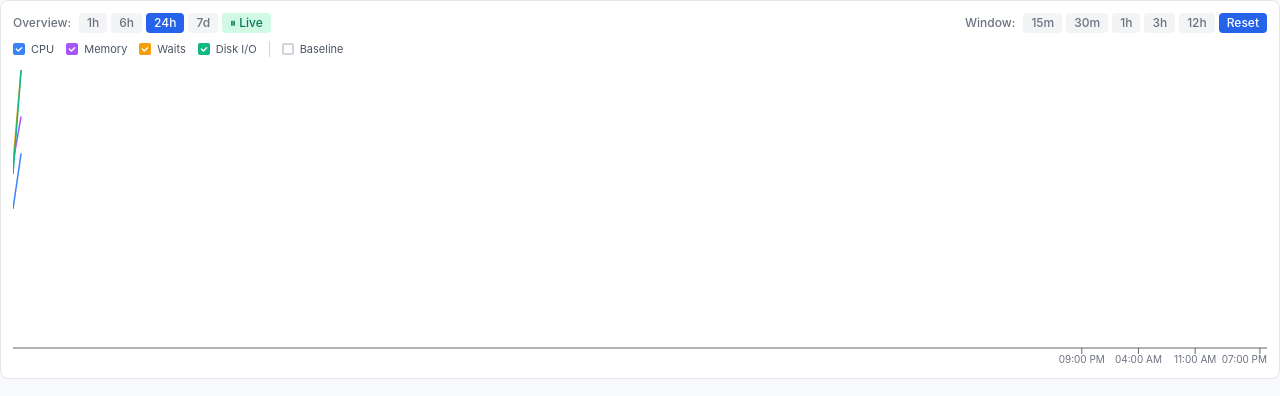
Test: OverviewTimeline › auto-refresh toggle button is present and toggles state
Click the button with test id "auto-refresh-toggle": click(246, 23) [222,13,271,33]
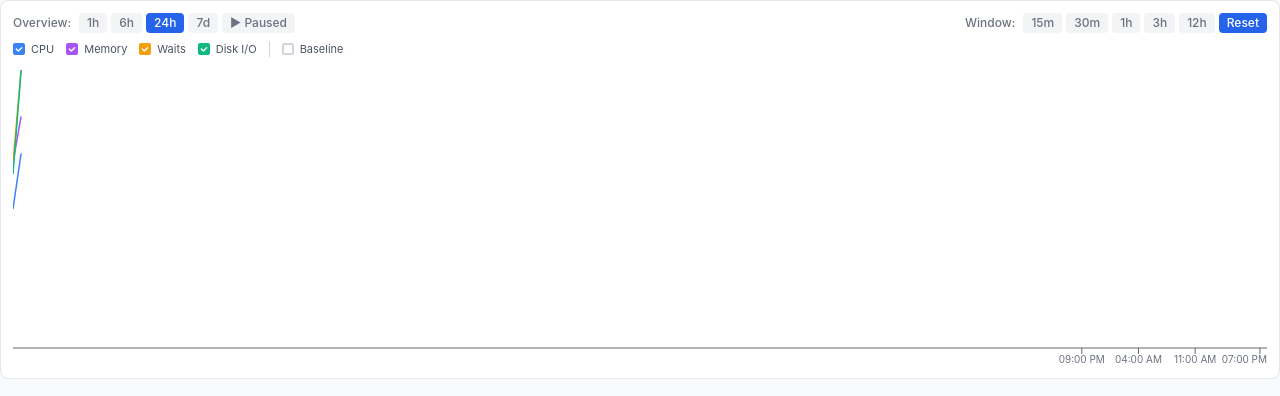
Expected: the button with test id "auto-refresh-toggle" shows "Paused"
Click the button with test id "auto-refresh-toggle": click(259, 23) [222,13,295,33]
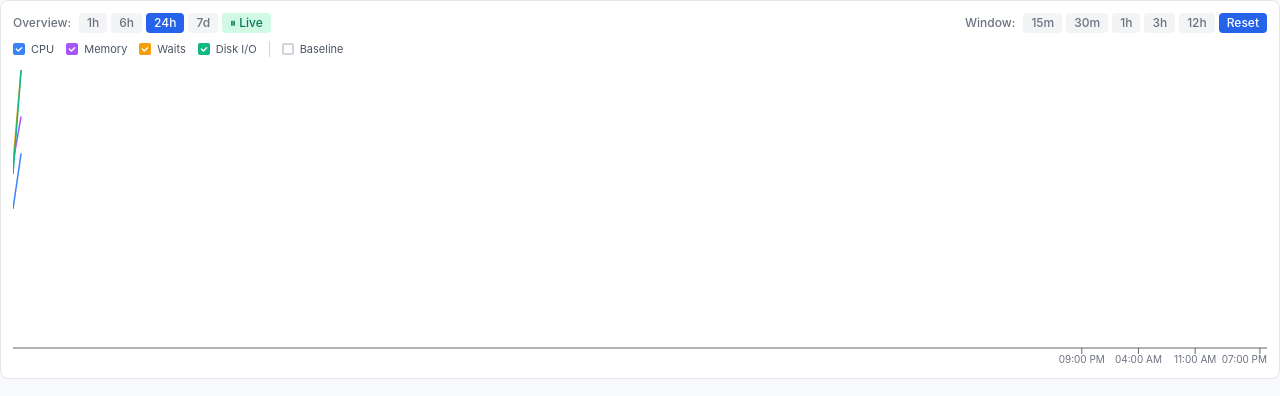
Expected: the button with test id "auto-refresh-toggle" shows "Live", [222,13,271,33]
